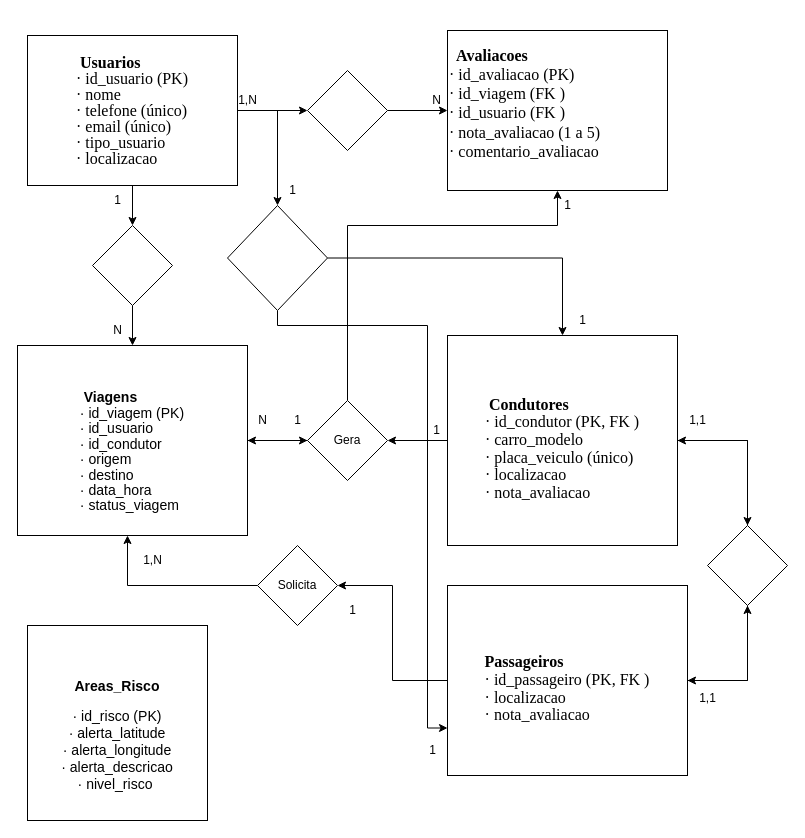
Image size: 805x838. Some labels were removed from this diagram. Here are the shapes that lost their labels. From the top down, the centre of each, then its label:
(x=347, y=110): Faz
(x=132, y=265): Possui
(x=277, y=257): Identifica-se
(x=747, y=565): Avalia
